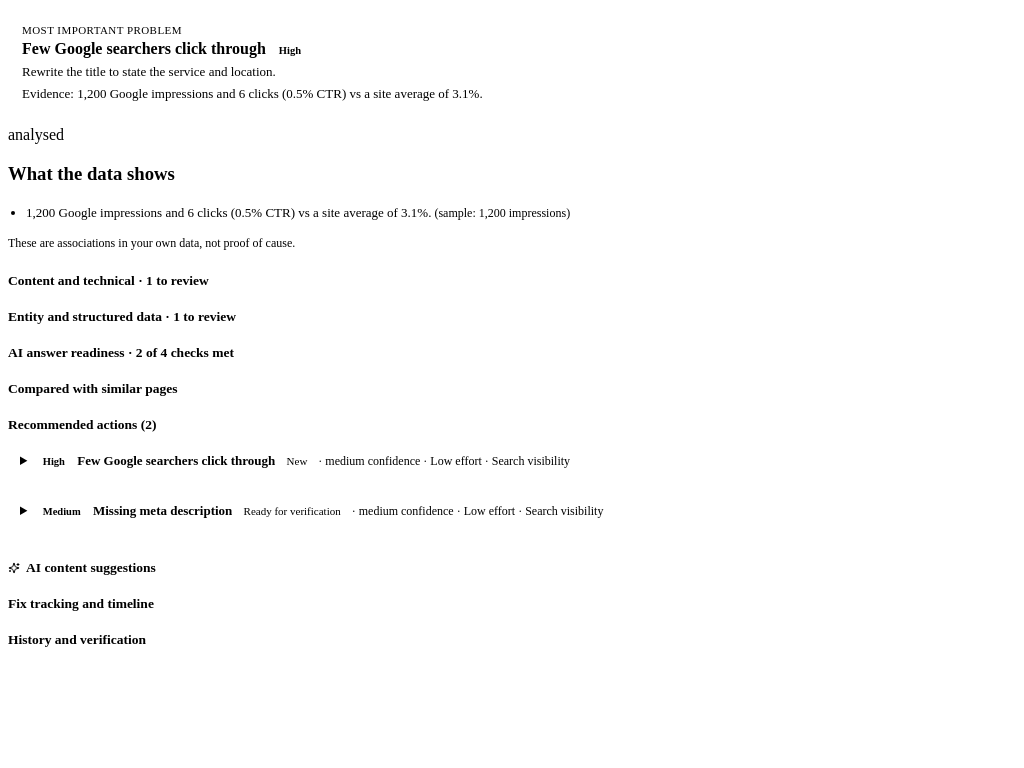
Test case: AI suggestions › a failure is reported and AI-disabled servers say so
The width and height of the screenshot is (1024, 768).
Click the heading "AI content suggestions" at (82,568), box [8,560,156,575]
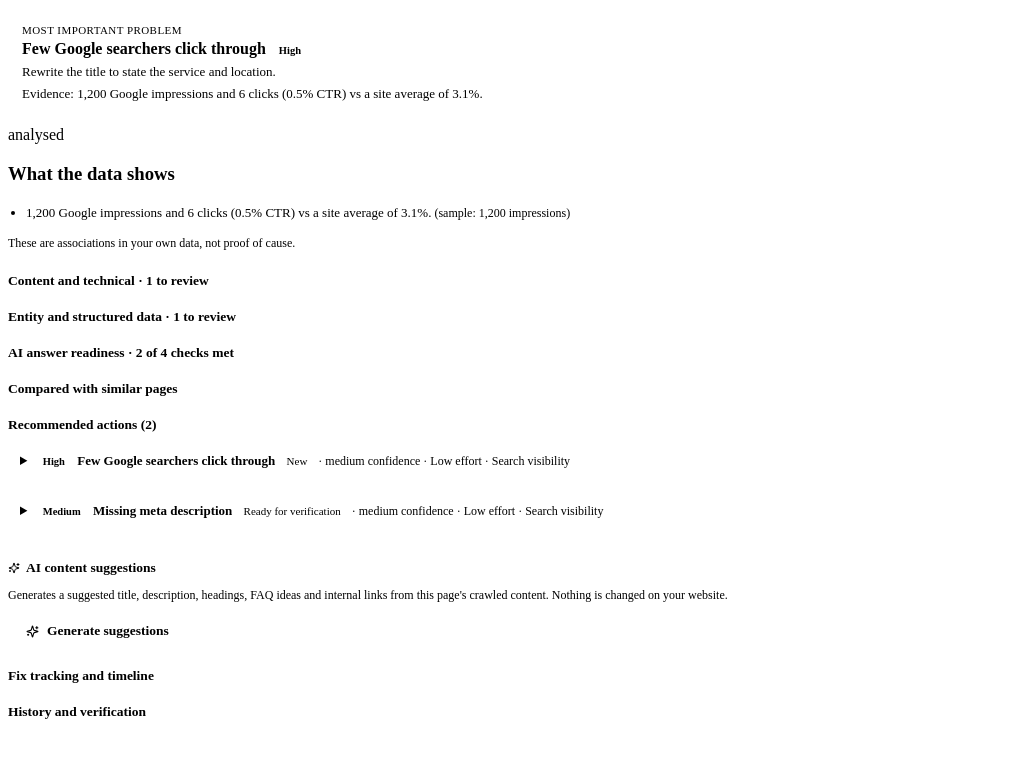
Click the button "Generate suggestions" at (97,632), box [8,615,187,648]
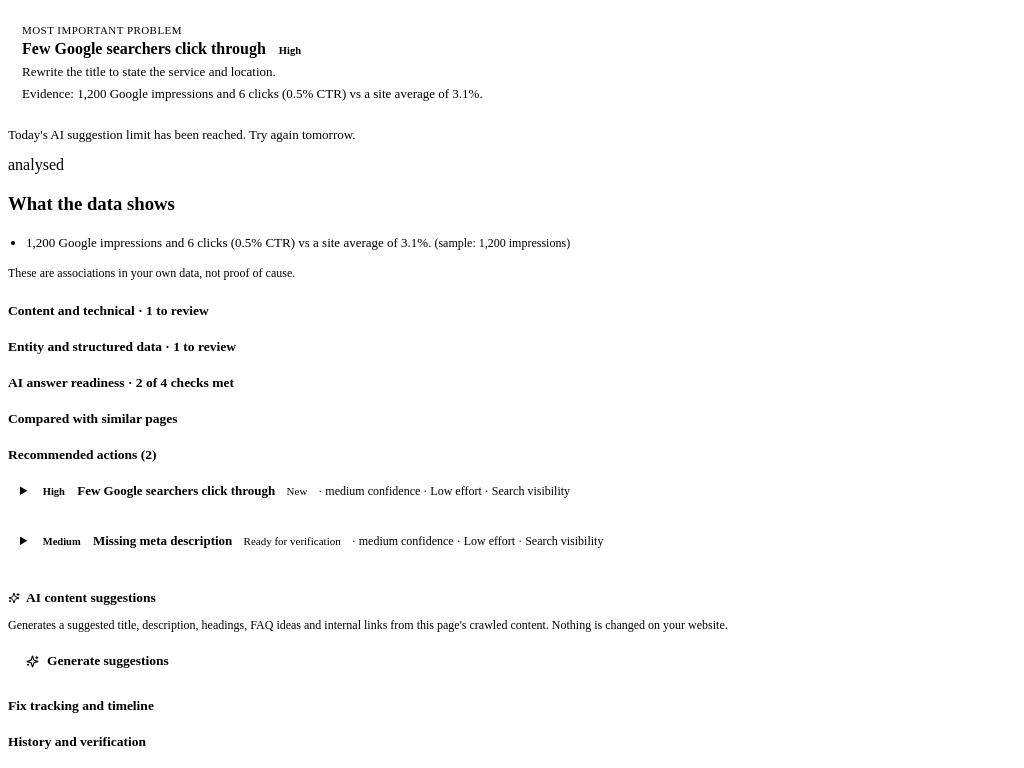
Expected: the message shows "limit has been reached", [8,127,356,142]
